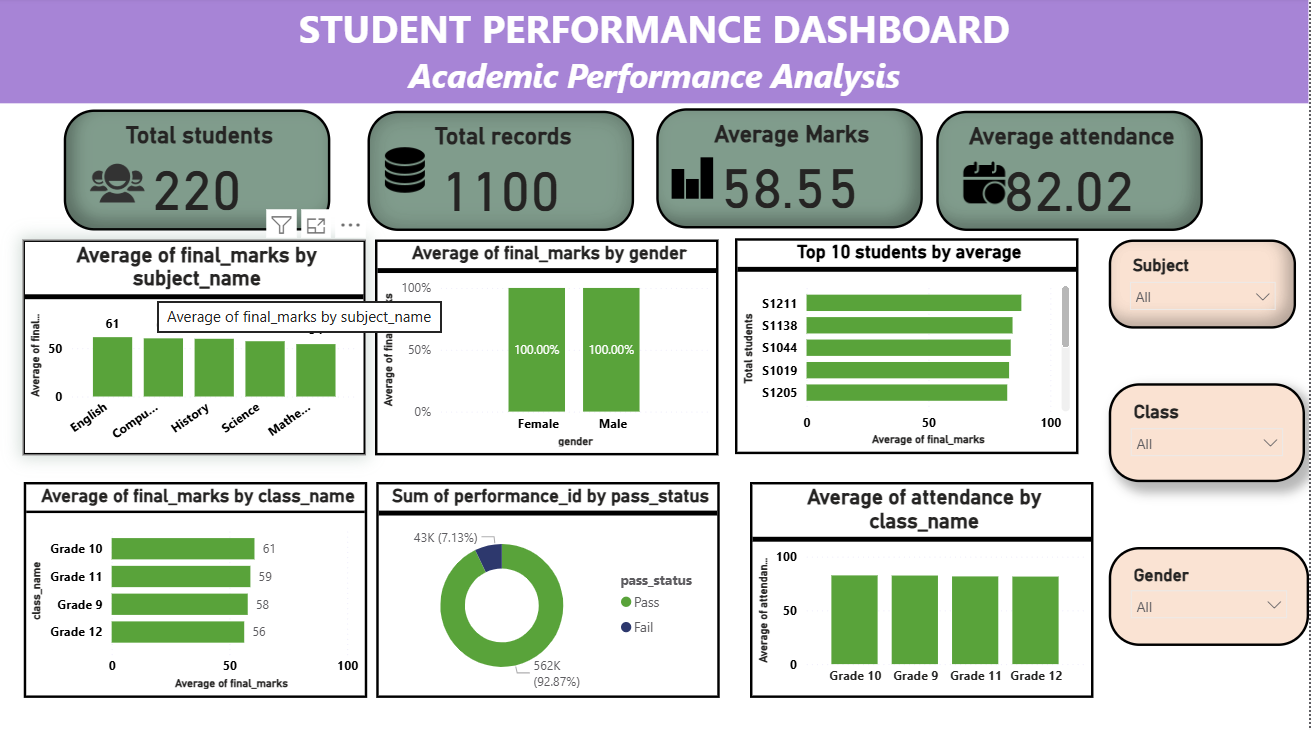

This screenshot's page, from the dashboard's own definition file:
{"tool":"powerbi","page":{"name":"Page 1","canvas":[1280,720],"ordinal":0},"visuals":[{"type":"card","title":"Total records","fields":{"Values":["CountNonNull(student_performance_merged.student_id)"]},"box":[359.5,111.3,260.5,117.4],"z":0},{"type":"card","title":"Total students","fields":{"Values":["Count(student_performance_merged.student_id)"]},"box":[62.4,110.1,260.5,118.6],"z":1000},{"type":"card","title":"Average Marks","fields":{"Values":["Avg(student_performance_merged.final_marks)"]},"box":[642,108.8,260.5,117.4],"z":2000},{"type":"card","title":"Average attendance","fields":{"Values":["Avg(student_performance_merged.attendance)"]},"box":[915.9,111.3,260.5,117.4],"z":3000},{"type":"clusteredColumnChart","fields":{"Category":["student_performance_merged.subject_name"],"Y":["Avg(student_performance_merged.final_marks)"]},"box":[22,237.2,336.3,211],"z":4000},{"type":"clusteredColumnChart","fields":{"Category":["student_performance_merged.class_name"],"Y":["Avg(student_performance_merged.attendance)"]},"box":[733.7,474.5,336.3,211.6],"z":5000},{"type":"donutChart","fields":{"Category":["student_performance_merged.pass_status"],"Y":["Sum(student_performance_merged.performance_id)"]},"box":[368.1,474.5,336.3,211.6],"z":6000},{"type":"clusteredBarChart","fields":{"Category":["student_performance_merged.class_name"],"Y":["Avg(student_performance_merged.final_marks)"]},"box":[23.2,474.5,336.3,211.6],"z":7000},{"type":"hundredPercentStackedColumnChart","fields":{"Category":["student_performance_merged.gender"],"Y":["Avg(student_performance_merged.final_marks)"]},"box":[366.8,237.2,336.3,211.6],"z":8000},{"type":"clusteredBarChart","title":"Top 10 students by average","fields":{"Y":["Avg(student_performance_merged.final_marks)"],"Category":["student_performance_merged.student_id"]},"box":[719,236,336.3,211.6],"z":9000},{"type":"slicer","fields":{"Values":["student_performance_merged.class_name"]},"box":[1084.7,377.9,192,96.6],"z":10000},{"type":"slicer","fields":{"Values":["student_performance_merged.subject_name"]},"box":[1084.7,237.2,183.4,86.8],"z":11000},{"type":"slicer","fields":{"Values":["student_performance_merged.gender"]},"box":[1084.7,538,195.7,96.6],"z":12000},{"type":"textbox","box":[0,0,1280.3,103.9],"z":13000},{"type":"image","box":[83.2,135.7,63.6,90.5],"z":14000},{"type":"image","box":[368.1,135.7,56.3,68.5],"z":15000},{"type":"image","box":[650.5,135.7,53.8,79.5],"z":16000},{"type":"image","box":[902.5,154.1,121.1,55],"z":17000}]}

Visuals, with their boxes in screenshot pixels (x1, y1, x2, y2), scaled from the page's 1280x720 canvas onto the 1311x730 screenshot:
"Total records" card: <box>368,113,635,232</box>
"Total students" card: <box>64,112,331,232</box>
"Average Marks" card: <box>658,110,924,229</box>
"Average attendance" card: <box>938,113,1205,232</box>
clusteredColumnChart - student_performance_merged.subject_name x Avg(student_performance_merged.final_marks): <box>23,240,367,454</box>
clusteredColumnChart - student_performance_merged.class_name x Avg(student_performance_merged.attendance): <box>751,481,1096,696</box>
donutChart - student_performance_merged.pass_status x Sum(student_performance_merged.performance_id): <box>377,481,721,696</box>
clusteredBarChart - student_performance_merged.class_name x Avg(student_performance_merged.final_marks): <box>24,481,368,696</box>
hundredPercentStackedColumnChart - student_performance_merged.gender x Avg(student_performance_merged.final_marks): <box>376,240,720,455</box>
"Top 10 students by average" clusteredBarChart: <box>736,239,1081,454</box>
slicer - student_performance_merged.class_name: <box>1111,383,1308,481</box>
slicer - student_performance_merged.subject_name: <box>1111,240,1299,328</box>
slicer - student_performance_merged.gender: <box>1111,545,1310,643</box>
textbox: <box>0,0,1310,105</box>
image: <box>85,138,150,229</box>
image: <box>377,138,435,207</box>
image: <box>666,138,721,218</box>
image: <box>924,156,1048,212</box>
